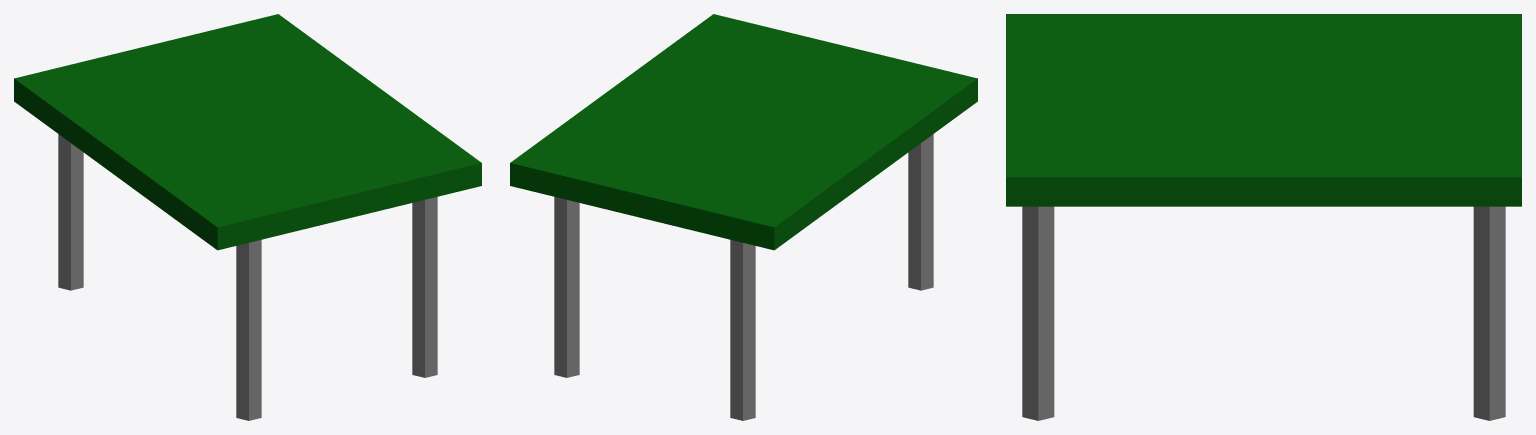
File: Table.gltf
3 renders of one model, left to right at view 1: azimuth 30°, elevation 25°; view 2: azimuth 150°, elevation 25°; view 3: azimuth 270°, elevation 25°, orthographic. The views are drawn at different scales.
Parts seen in each view (by area): view 1: mesh, cylinder (×3); view 2: mesh, cylinder (×3); view 3: mesh, cylinder (×2).
Part boxes in pixels (x1,y1,x2,y2): mesh: [14, 14, 481, 250]; cylinder (×3): [58, 134, 437, 420]; mesh: [510, 14, 977, 250]; cylinder (×3): [554, 134, 933, 420]; mesh: [1006, 14, 1521, 206]; cylinder (×2): [1022, 206, 1505, 420].
Bounding box in the file's own units: 0.75 × 0.5625 × 1.
2 materials, 2 textured.
